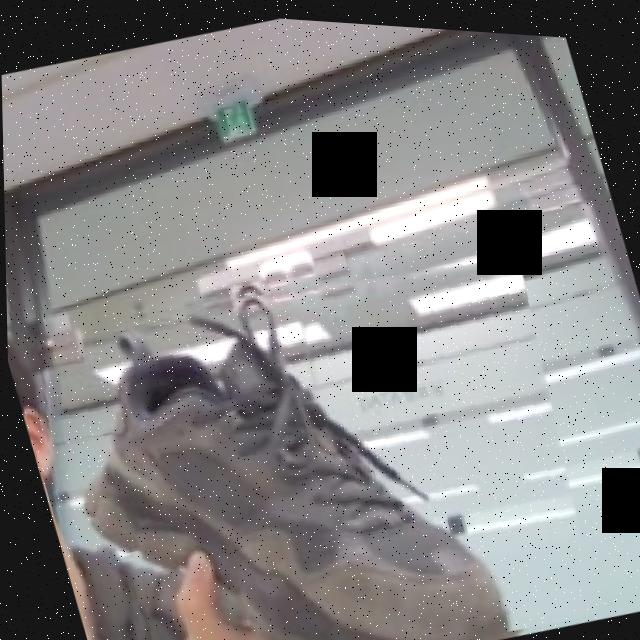shoe: (3, 195, 617, 640)
